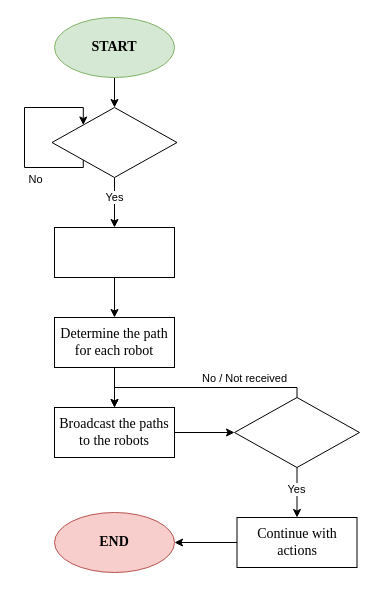
The diagram is 377 pixels wide and 590 high, and some of its shapes have lost their labels. The centre of each missing label's shape, as x and y in pixels:
"Object Detected" belongs at point (114, 142).
"Robots to acknowledge" belongs at point (297, 432).
"Signal all robots to stop moving" belongs at point (114, 252).
